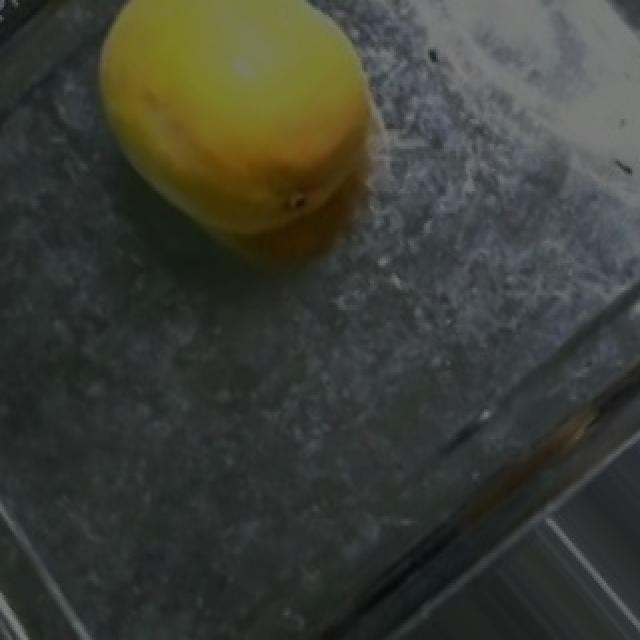fruit: (58, 2, 436, 268)
